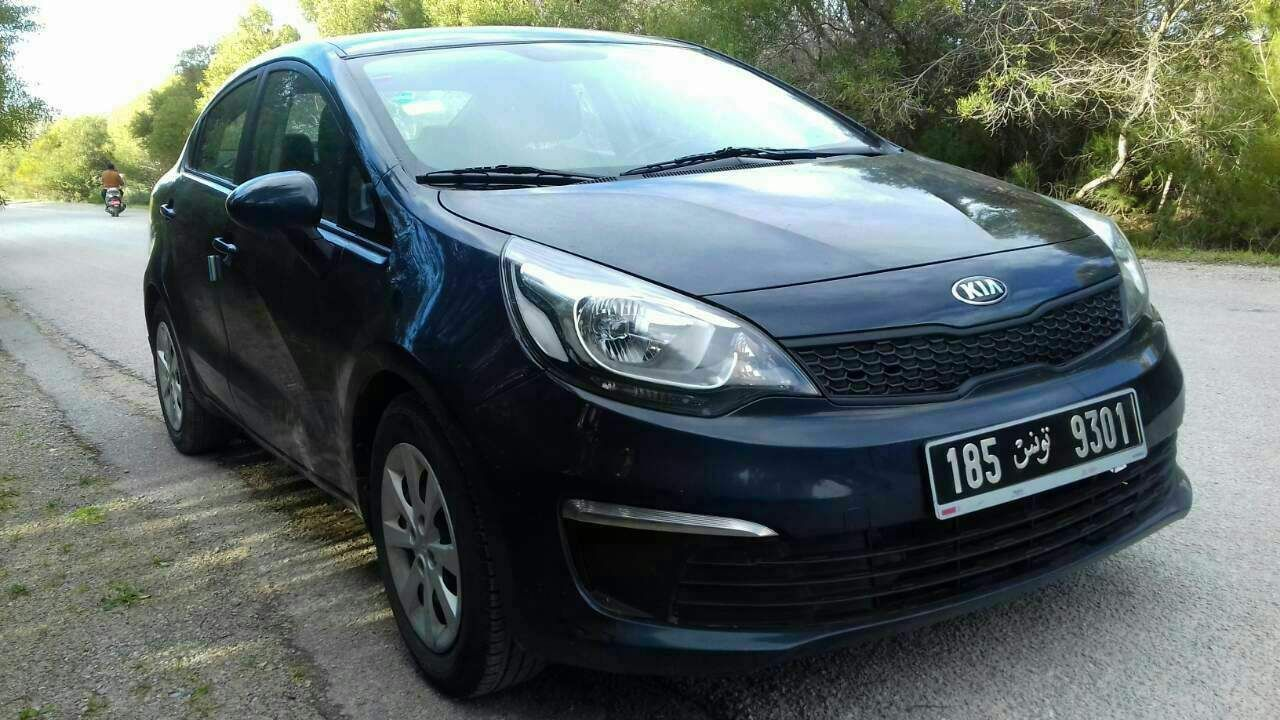LP: (923, 395, 1144, 503)
